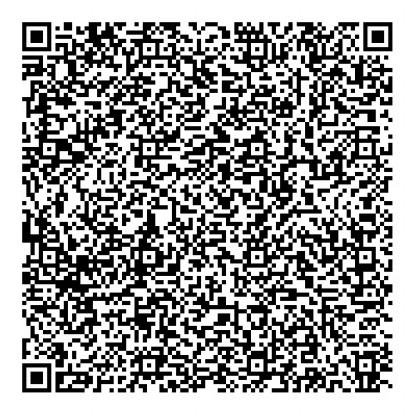qr: (17, 18, 397, 394)
